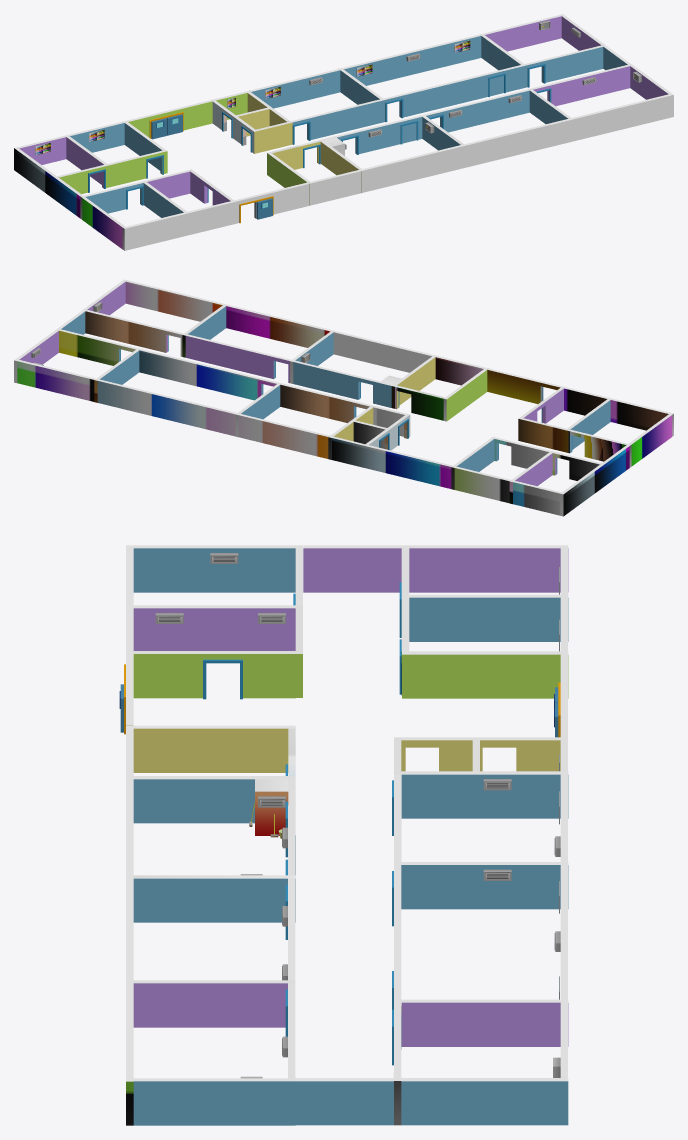
The model's file is Plan-Prototype.fbx.
3 views of the same model, one above another, from view 1: azimuth 30°, elevation 25°; view 2: azimuth 150°, elevation 25°; view 3: azimuth 270°, elevation 25° (orthographic). The views are drawn at different scales.
Parts seen in each view (by area): view 1: Walls, Walls.011, Walls.012, Walls.006, Walls.004, Walls.007, Walls.008, Walls.005, Walls.013, Walls.001, Walls.014, Walls.009 (+14 smaller); view 2: Walls, Walls.012, Walls.011, Walls.008, Walls.006, Walls.001, Walls.014, Walls.004, Walls.005, Walls.007, Walls.013, Walls.010 (+14 smaller); view 3: Walls, Walls.002, Walls.003, Walls.001, Walls.011, Walls.012, Walls.008, Walls.007, Walls.009, Walls.005, Walls.023, Walls.014 (+2 smaller).
Part boxes in pixels (<box>): Walls: <box>14,14,671,249</box>; Walls.011: <box>383,64,526,122</box>; Walls.012: <box>342,34,481,85</box>; Walls.006: <box>464,118,573,167</box>; Walls.004: <box>359,144,465,193</box>; Walls.007: <box>572,93,673,141</box>; Walls.008: <box>424,89,529,132</box>; Walls.005: <box>531,64,630,106</box>; Walls.013: <box>291,98,384,144</box>; Walls.001: <box>322,115,422,155</box>; Walls.014: <box>249,69,340,108</box>; Walls.009: <box>524,44,605,87</box>; Walls: <box>14,280,672,516</box>; Walls.012: <box>97,379,236,436</box>; Walls.011: <box>136,348,278,400</box>; Walls.008: <box>185,334,291,382</box>; Walls.006: <box>223,304,331,347</box>; Walls.001: <box>293,360,401,407</box>; Walls.014: <box>238,414,329,458</box>; Walls.004: <box>330,330,436,372</box>; Walls.005: <box>85,310,183,356</box>; Walls.007: <box>123,279,224,321</box>; Walls.013: <box>278,382,371,422</box>; Walls.010: <box>17,360,95,401</box>; Walls: <box>133,545,568,1125</box>; Walls.002: <box>133,874,295,922</box>; Walls.003: <box>133,776,295,823</box>; Walls.001: <box>255,779,295,875</box>; Walls.011: <box>392,865,401,1009</box>; Walls.012: <box>554,865,567,999</box>; Walls.008: <box>282,878,295,980</box>; Walls.007: <box>126,983,133,1125</box>; Walls.009: <box>392,1002,401,1125</box>; Walls.005: <box>282,983,295,1078</box>; Walls.023: <box>119,654,133,734</box>; Walls.014: <box>554,774,567,861</box>.
Size of the model in its own units: 7584 by 293 by 2682.
Materials: 1 (1 with a texture image).
